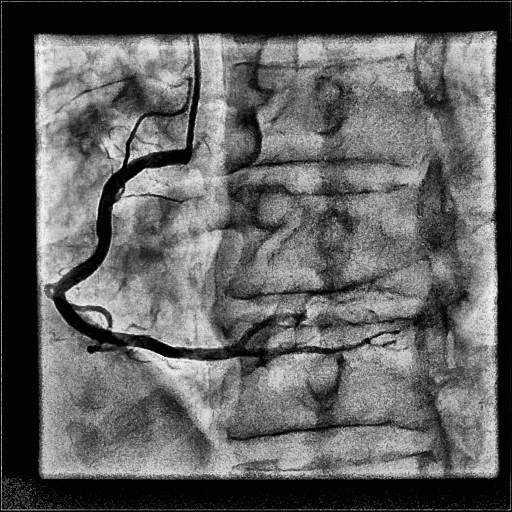pborca: (237, 313, 310, 348)
pda: (239, 331, 400, 357)
rca: (53, 149, 242, 360)
